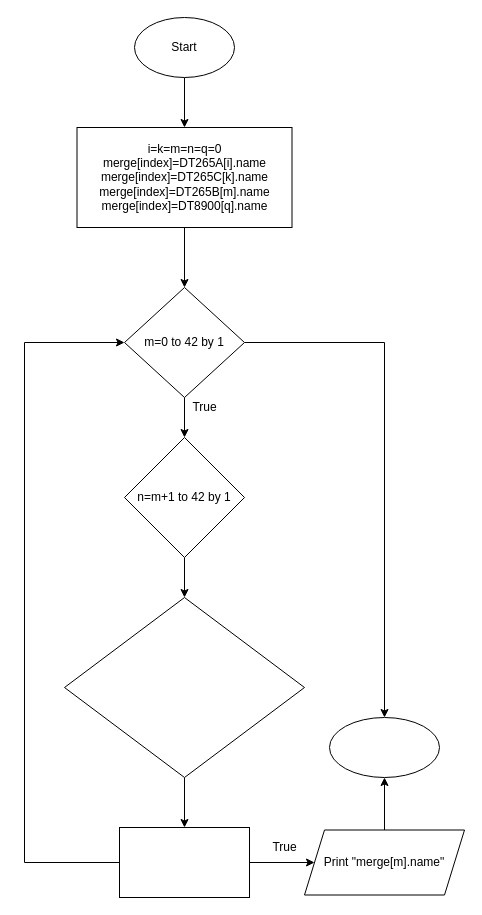
Image size: 482x915. Some labels were removed from this diagram. Each missing label, with the centre of its shape:
"End" belongs at pixel 384 747.
"if(strcmp(merge[].name, merge[] )> 0)" belongs at pixel 184 687.
"temp2=merge[m] merge[m]=merge[n] merge[n]=temp2" belongs at pixel 184 862.
